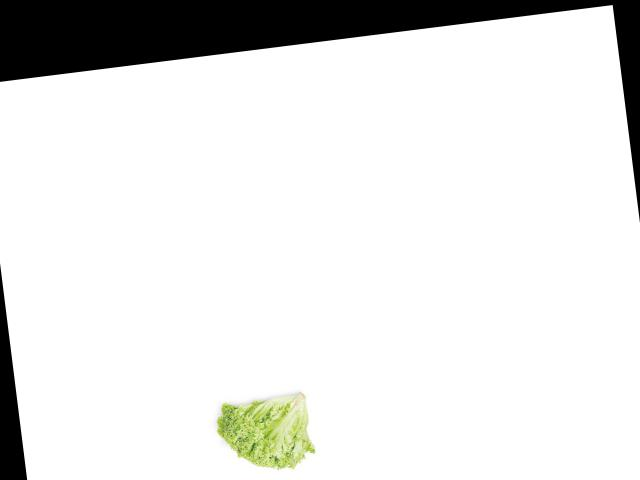lettuce: (207, 382, 321, 480)
